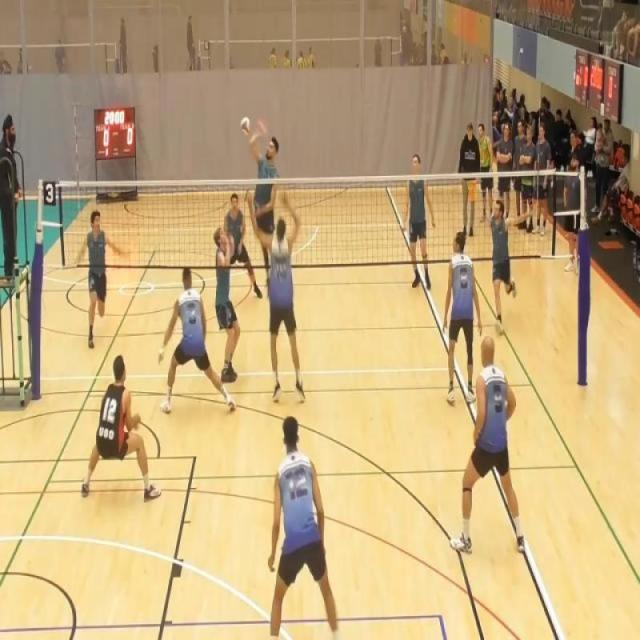volleyball: (240, 116, 251, 137)
